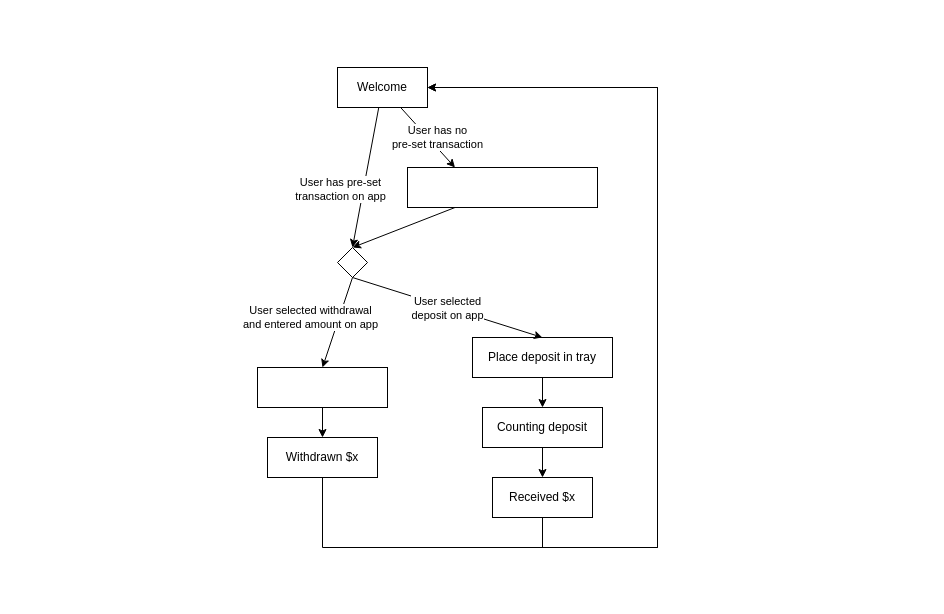
The diagram is 944 pixels wide and 614 high, and some of its shapes have lost their labels. Each missing label, with the centre of its shape:
"Refer to phone for instructions" belongs at [502,187].
"Withdrawing $x..." belongs at [322,387].
